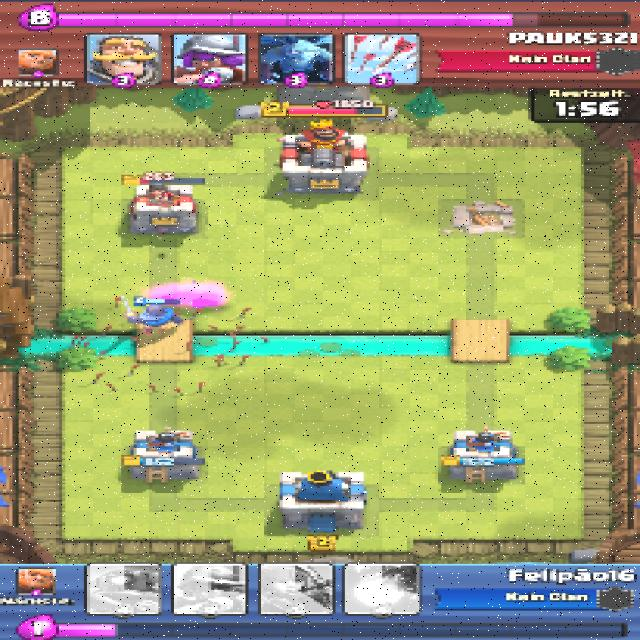Player-Arrow: (69, 296, 273, 394)
Player-Knight: (118, 303, 184, 331)
